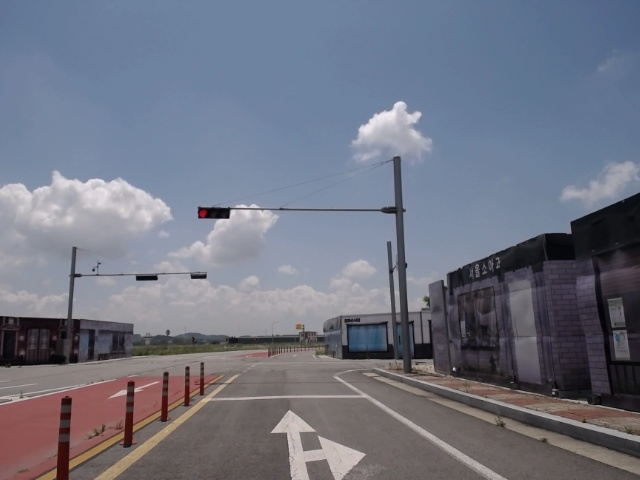red_3: (195, 204, 233, 221)
